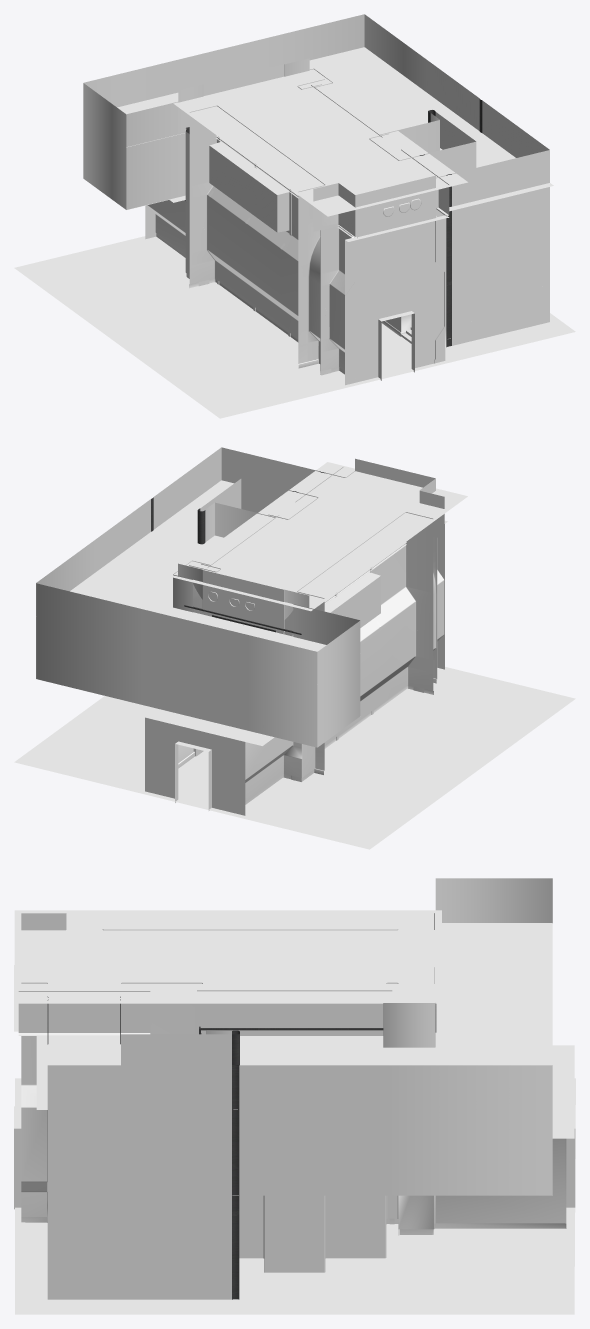
Rendered from TajMod LCZ Upstairs.fbx.
3 renders of one model, top to bottom at view 1: azimuth 30°, elevation 25°; view 2: azimuth 150°, elevation 25°; view 3: azimuth 270°, elevation 25°, orthographic. The views are drawn at different scales.
Parts seen in each view (by area): view 1: LCZ_Straight_UpstairsComputerRoom; view 2: LCZ_Straight_UpstairsComputerRoom; view 3: LCZ_Straight_UpstairsComputerRoom.
Part boxes in pixels (x1,y1,x2,y2): LCZ_Straight_UpstairsComputerRoom: [14, 14, 575, 418]; LCZ_Straight_UpstairsComputerRoom: [14, 447, 575, 849]; LCZ_Straight_UpstairsComputerRoom: [14, 878, 575, 1314].
Size of the model in its own units: 1518 by 773 by 1525.
